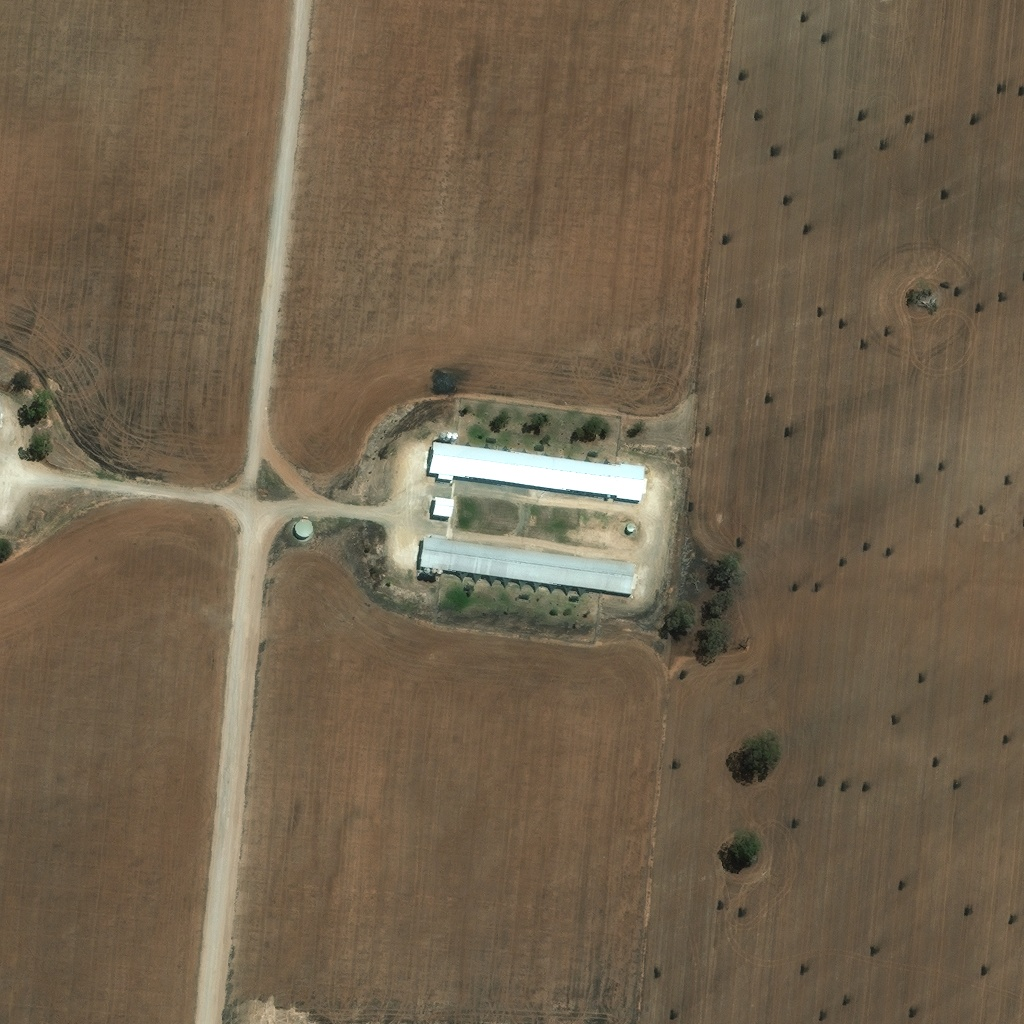0 no-damage: (429, 441, 651, 500), (419, 535, 635, 591), (433, 496, 455, 517), (296, 515, 313, 534), (440, 434, 458, 443), (424, 568, 438, 578), (627, 520, 636, 529)
